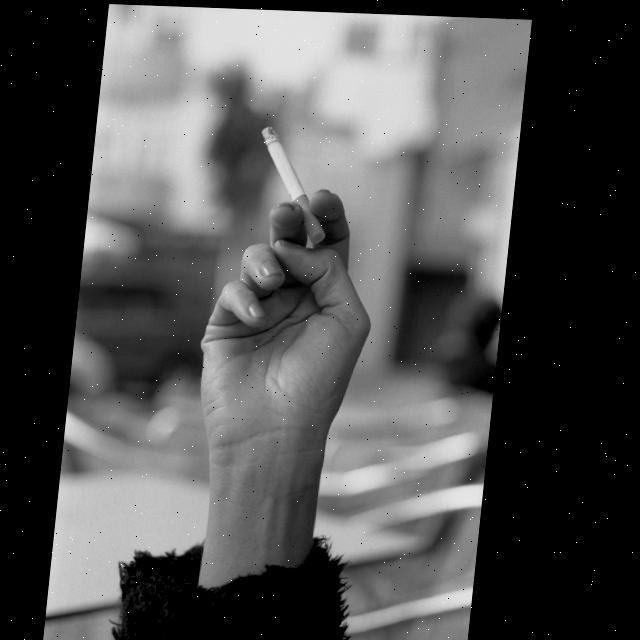cigarette: (255, 124, 339, 242)
